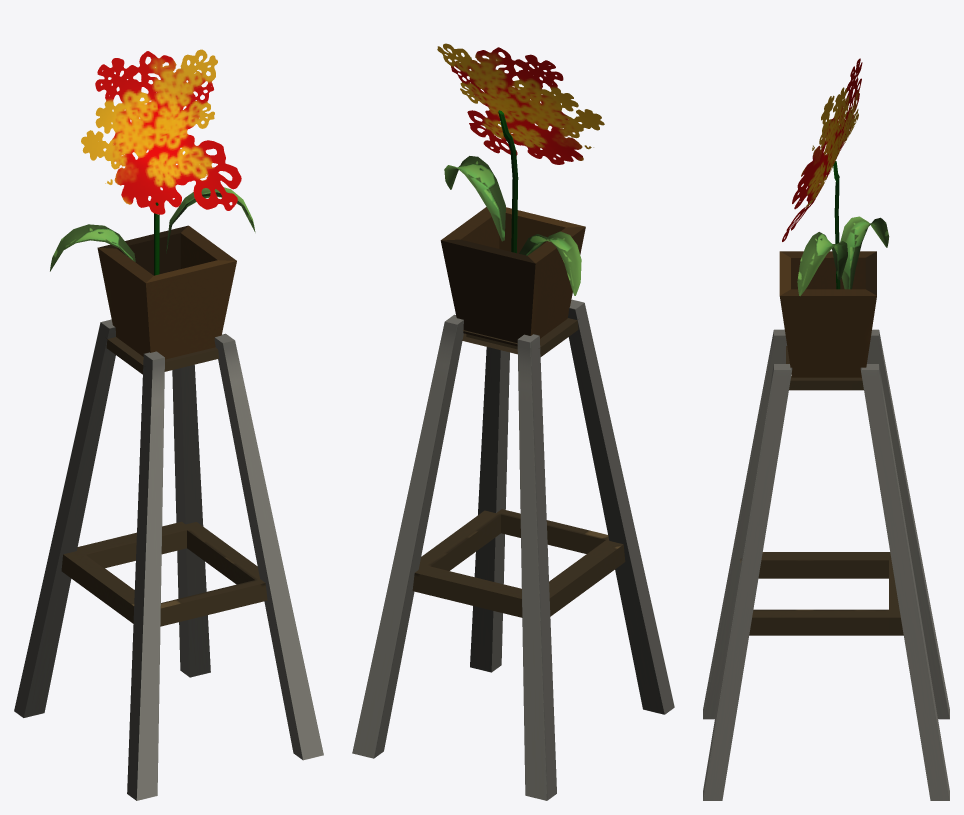
File: Tx_prop_flower pot stand_1.fbx
The picture shows the model from 3 angles, left to right: view 1: azimuth 30°, elevation 25°; view 2: azimuth 150°, elevation 25°; view 3: azimuth 270°, elevation 25°; orthographic projection. The views are drawn at different scales.
Parts seen in each view (by area): view 1: Tx_prop_flower_pot_stand_10; view 2: Tx_prop_flower_pot_stand_10; view 3: Tx_prop_flower_pot_stand_10.
Part boxes in pixels (x1,y1,x2,y2): Tx_prop_flower_pot_stand_10: (14,49,323,800); Tx_prop_flower_pot_stand_10: (352,43,674,800); Tx_prop_flower_pot_stand_10: (703,58,949,800).
Bounding box in the file's own units: 2.38 × 7.84 × 2.54.
2 materials, 2 textured.
